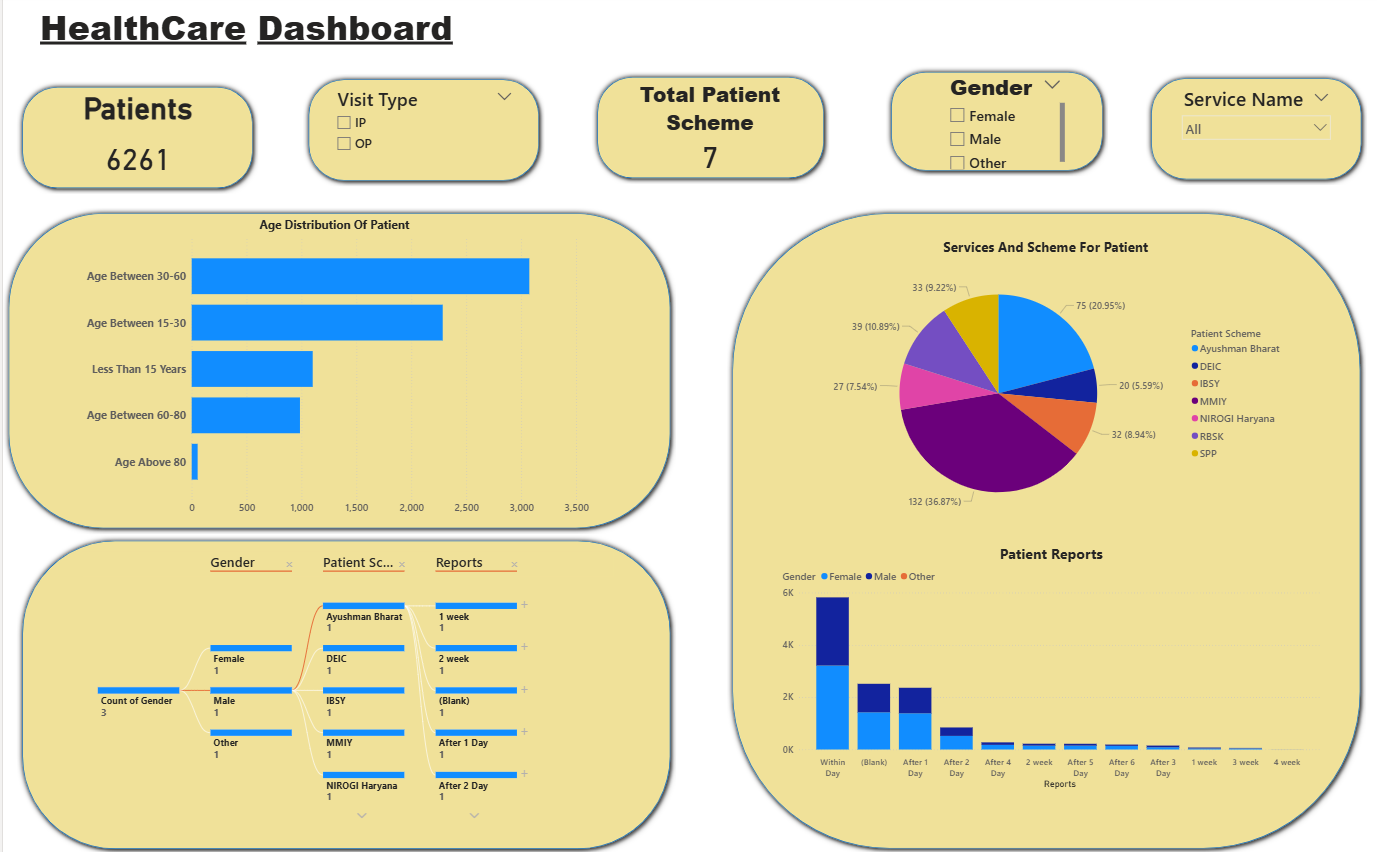

Layout of this report page (visuals, bound fields, positions):
{"tool":"powerbi","page":{"name":"Page 1","canvas":[2200,1367],"ordinal":0},"visuals":[{"type":"shape","box":[480,118,386,180],"z":0},{"type":"textbox","box":[0,0,2200,110],"z":1000},{"type":"textbox","box":[0,0,2200,110],"z":2000},{"type":"shape","box":[22,130,386,180],"z":3000},{"type":"card","title":"Patients","fields":{"Values":["Count(dashboard.Patient Name)"]},"box":[36,146,360,152],"z":4000},{"type":"shape","box":[942,114,380,180],"z":5000},{"type":"card","title":"Total Patient Scheme","fields":{"Values":["Count(dashboard.Patient Scheme)"]},"box":[982,128,298,148],"z":6000},{"type":"shape","box":[1410,106,356,176],"z":7000},{"type":"slicer","fields":{"Values":["dashboard.Gender"]},"box":[1500,110,202,166],"z":8000},{"type":"shape","box":[1826,116,354,180],"z":9000},{"type":"shape","box":[0,332,1076,522],"z":10000},{"type":"shape","box":[1158,332,1022,1034],"z":11000},{"type":"funnel","fields":{"Category":["dashboard.Patient Scheme"],"Y":["Count(dashboard.Patient Name)"]},"box":[98,888,898,446],"z":12000},{"type":"shape","box":[22,856,1054,511],"z":13000},{"type":"slicer","fields":{"Values":["dashboard.Service Name"]},"box":[1874,132,258,150],"z":14000},{"type":"slicer","fields":{"Values":["dashboard.Visit Type"]},"box":[522,132,304,146],"z":15000},{"type":"barChart","title":"Age Distribution Of Patient","fields":{"Category":["dashboard.Age 2"],"Y":["Count(dashboard.Patient Name)"]},"box":[118,346,824,488],"z":16000},{"type":"pieChart","title":"Services And Scheme For Patient","fields":{"Series":["dashboard.Patient Scheme"],"Y":["Count(dashboard.Service Name)"]},"box":[1280,380,776,470],"z":17000},{"type":"columnChart","title":" Patient Reports","fields":{"Category":["dashboard.Reports"],"Series":["dashboard.Gender"],"Y":["Count(dashboard.Patient Name)"]},"box":[1242,870,870,398],"z":18000},{"type":"decompositionTreeVisual","fields":{"ExplainBy":["dashboard.Gender","dashboard.Patient Scheme","dashboard.Reports","dashboard.Bill Date.Variation.Date Hierarchy.Day"],"Analyze":["Count(dashboard.Gender)"]},"box":[122,878,860,456],"z":19000}]}

Visuals, with their boxes in screenshot pixels (x1, y1, x2, y2), scaled from the page's 2200x1367 canvas onto the 1377x852 screenshot:
shape: bbox=[300, 74, 542, 186]
textbox: bbox=[0, 0, 1376, 69]
textbox: bbox=[0, 0, 1376, 69]
shape: bbox=[14, 81, 255, 193]
"Patients" card: bbox=[23, 91, 248, 186]
shape: bbox=[590, 71, 827, 183]
"Total Patient Scheme" card: bbox=[615, 80, 801, 172]
shape: bbox=[883, 66, 1105, 176]
slicer - dashboard.Gender: bbox=[939, 69, 1065, 172]
shape: bbox=[1143, 72, 1364, 184]
shape: bbox=[0, 207, 673, 532]
shape: bbox=[725, 207, 1364, 851]
funnel - dashboard.Patient Scheme x Count(dashboard.Patient Name): bbox=[61, 553, 623, 831]
shape: bbox=[14, 534, 673, 851]
slicer - dashboard.Service Name: bbox=[1173, 82, 1334, 176]
slicer - dashboard.Visit Type: bbox=[327, 82, 517, 173]
"Age Distribution Of Patient" barChart: bbox=[74, 216, 590, 520]
"Services And Scheme For Patient" pieChart: bbox=[801, 237, 1287, 530]
" Patient Reports" columnChart: bbox=[777, 542, 1322, 790]
decompositionTreeVisual - dashboard.Gender x dashboard.Patient Scheme: bbox=[76, 547, 615, 831]
